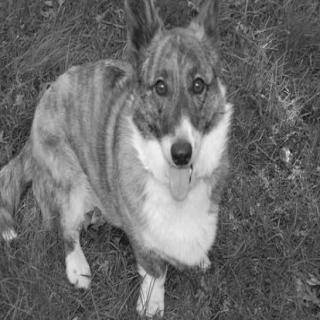dog: (125, 0, 230, 201)
nose: (168, 136, 194, 167)
